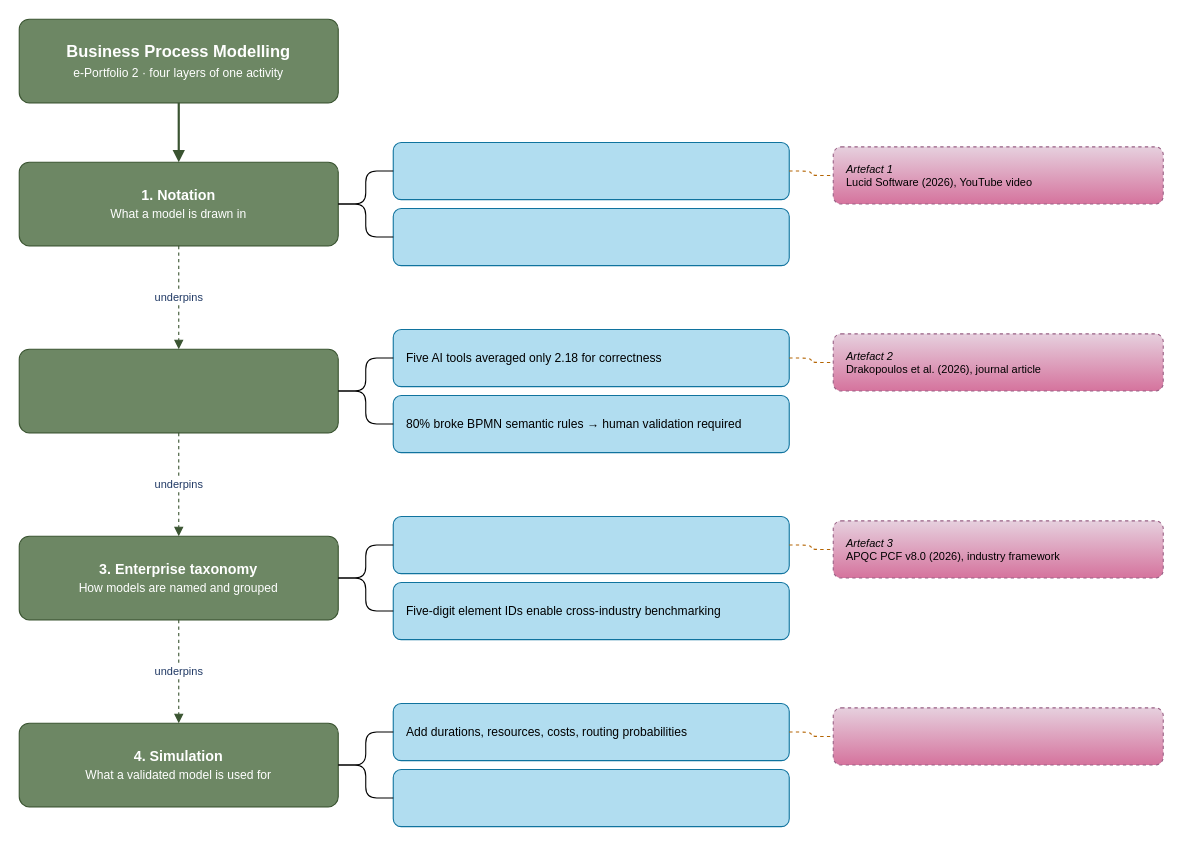
The diagram is 1183 pixels wide and 846 high, and some of its shapes have lost their labels. The centre of each missing label's shape, as x and y in pixels:
2. Tools and model quality Can the drawing be trusted?: the point at 178,390
Artefact 4 Cardanit (2026), blog post: the point at 997,736
BPMN 2.0: events, sequence flows, activities, gateways: the point at 590,170
Decomposes work from process category to process activity: the point at 590,544
Swim lanes assign responsibility and expose hand-offs: the point at 590,236
What-if tests: cycle time, utilisation, bottlenecks, cost: the point at 590,797
